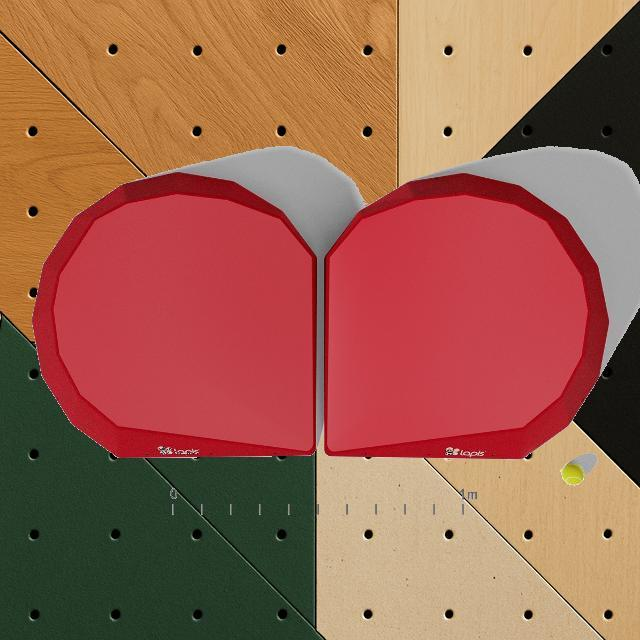Volume: (322, 172, 610, 460), (29, 172, 317, 458)
